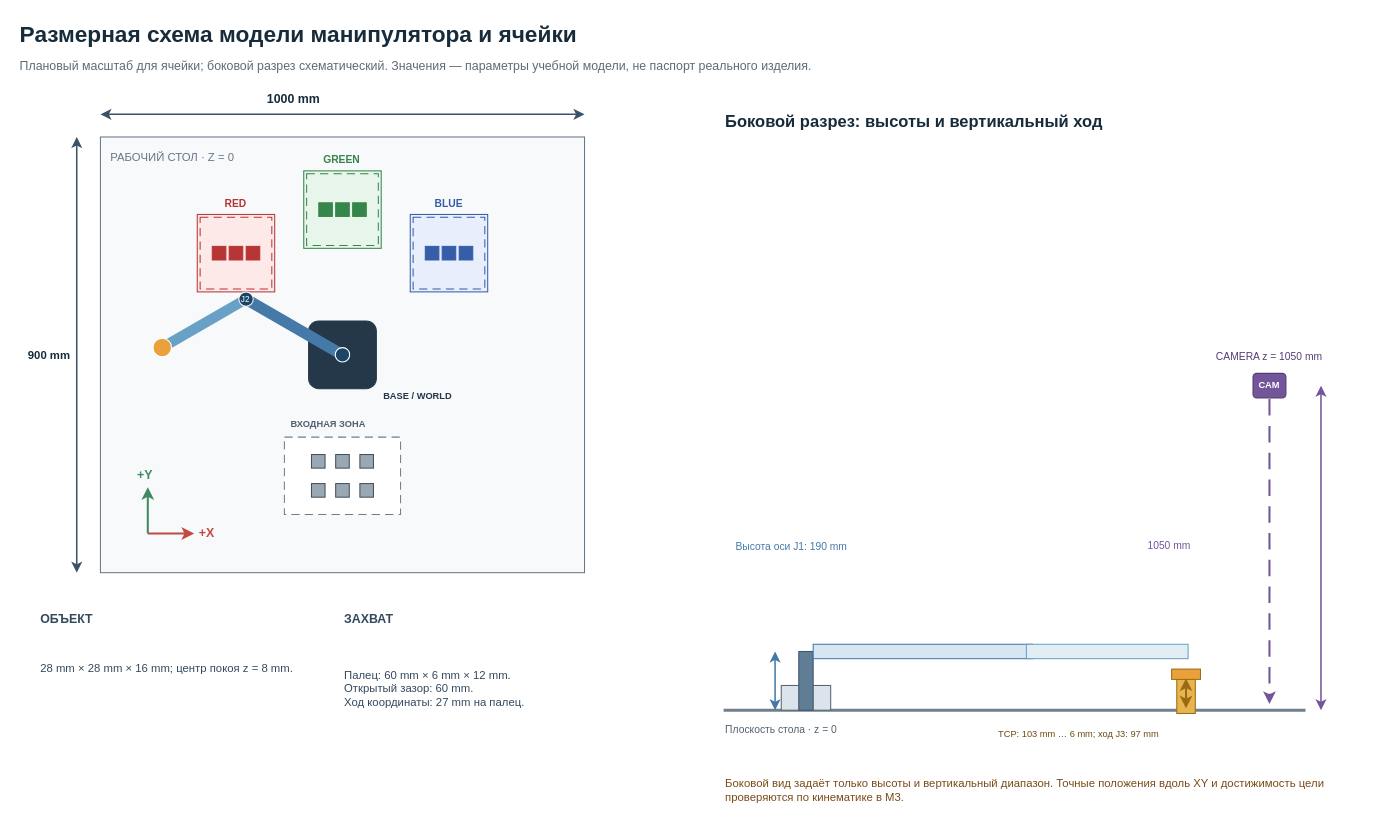
Some shapes in this 1394 by 832 pixel diagram are drawn without their labels. The centre of each missing label's shape, as x and y in pixels:
"J1" goes at pixel 342 354.
"TCP" goes at pixel 161 347.
